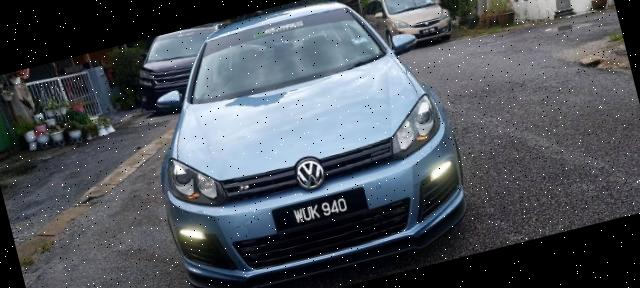License_Plate: (278, 190, 366, 233)
